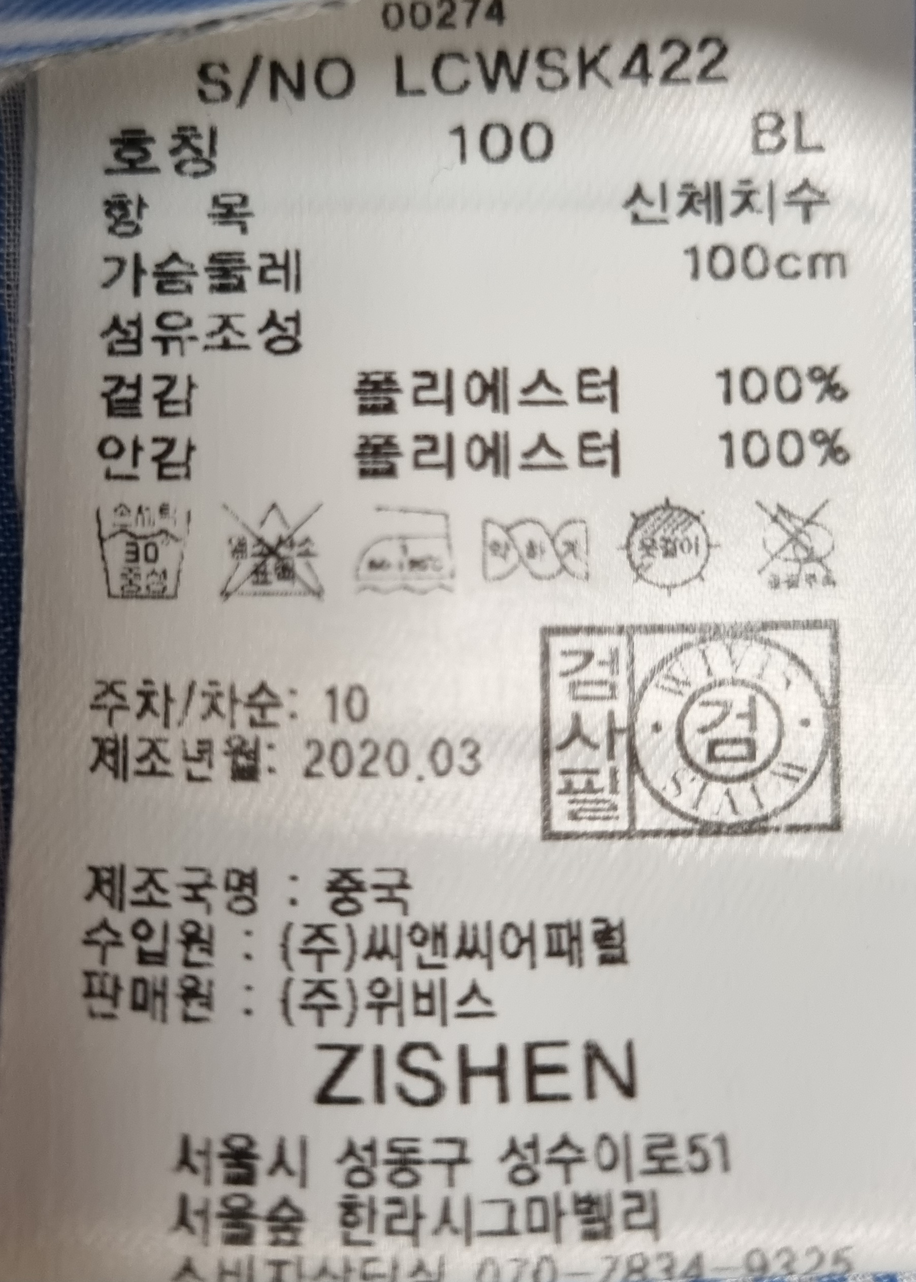KR_gentle_wring: (476, 499, 601, 595)
KR_hand_wash_30_neutral: (79, 487, 202, 611)
KR_hang_dry_in_shade: (617, 490, 723, 591)
KR_iron_low_temp_with_cloth: (343, 490, 468, 606)
KR_no_bleach: (208, 491, 334, 601)
